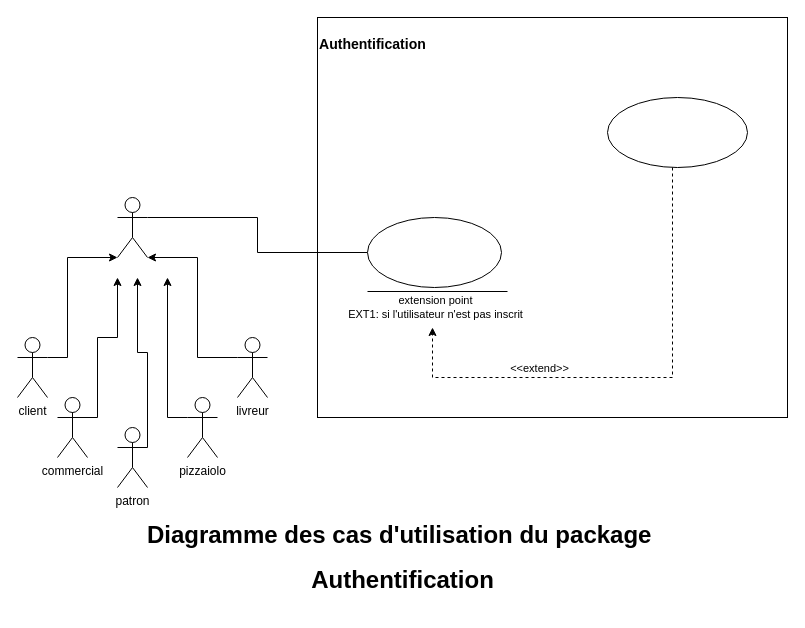
Some shapes in this 805 by 628 pixel diagram are drawn without their labels. Here are the shapes that lost their labels. From the top down, the box of each, then its label:
(606, 96, 748, 168): s'inscrire
(116, 196, 148, 258): Utilisateur
(366, 216, 502, 288): s'authentifier
